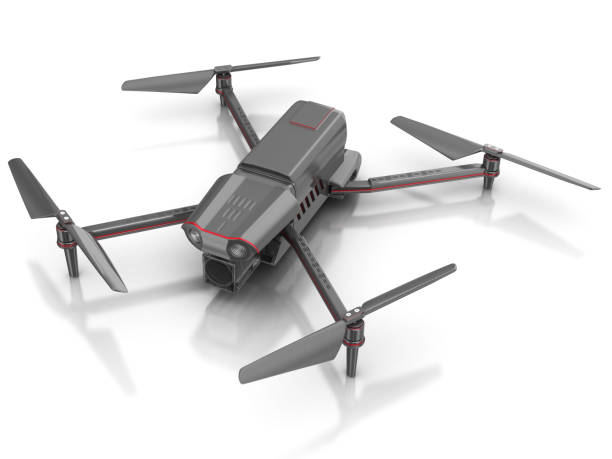Drone: (7, 52, 602, 386)
